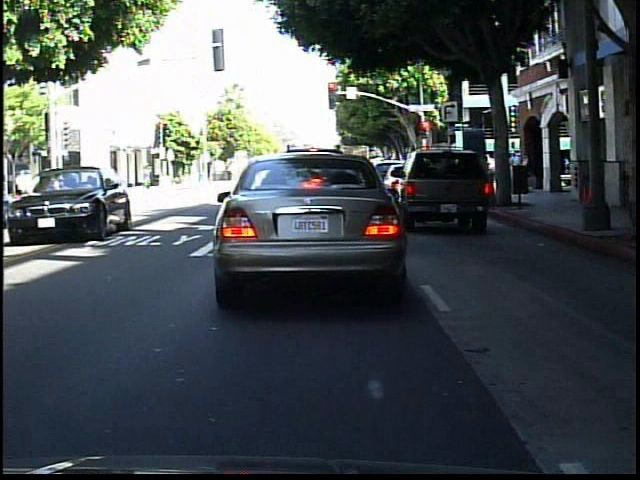person: (618, 141, 639, 220), (590, 143, 612, 217), (68, 161, 84, 200), (57, 163, 71, 206), (39, 168, 54, 206), (141, 160, 157, 192)
